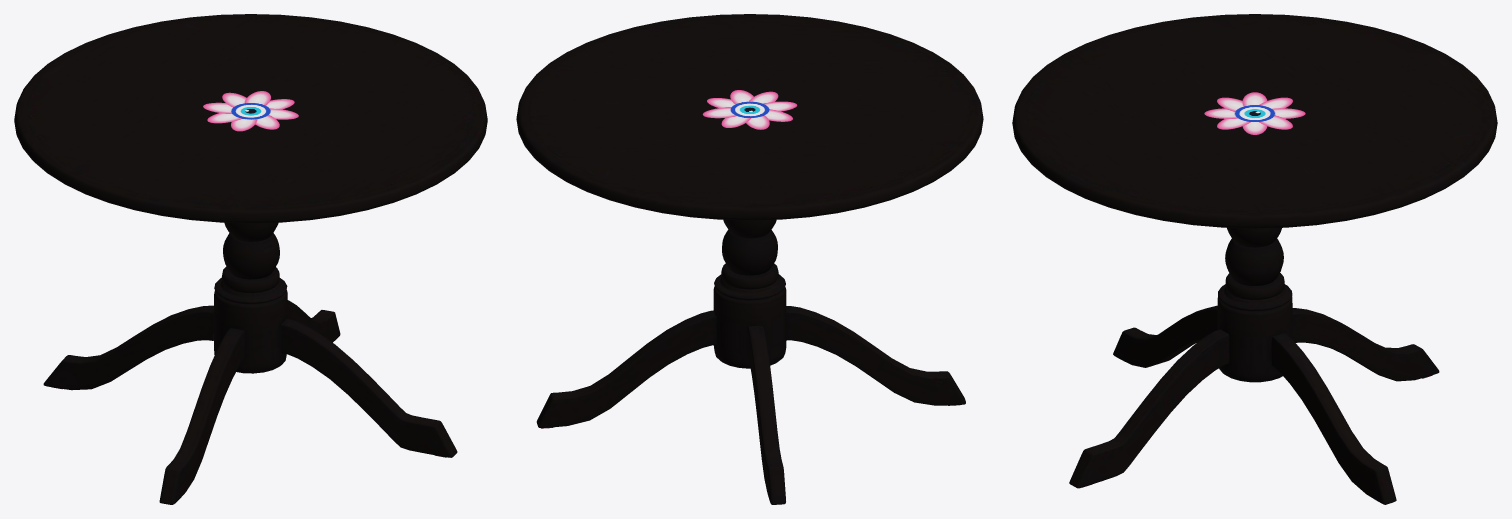
File: nyb_disco_table.glb
3 renders of one model, left to right at view 1: azimuth 30°, elevation 25°; view 2: azimuth 150°, elevation 25°; view 3: azimuth 270°, elevation 25°, orthographic. The views are drawn at different scales.
Visible parts, largest first — view 1: round_wooden_table_01, stk_eyeflower.png; view 2: round_wooden_table_01, stk_eyeflower.png; view 3: round_wooden_table_01, stk_eyeflower.png.
Boxes of the visible parts, box(x1,y1,x2,y2) form: round_wooden_table_01: box(14, 14, 487, 504); stk_eyeflower.png: box(203, 91, 298, 131); round_wooden_table_01: box(516, 14, 983, 504); stk_eyeflower.png: box(702, 90, 797, 129); round_wooden_table_01: box(1012, 14, 1497, 504); stk_eyeflower.png: box(1204, 92, 1305, 134).
Size of the model in its own units: 1.4 by 1.01 by 1.4.
Materials: 2 (2 with a texture image).
